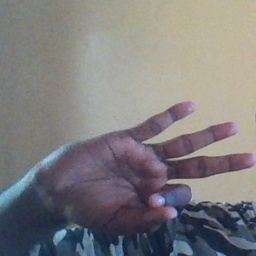K: (37, 99, 256, 235)
